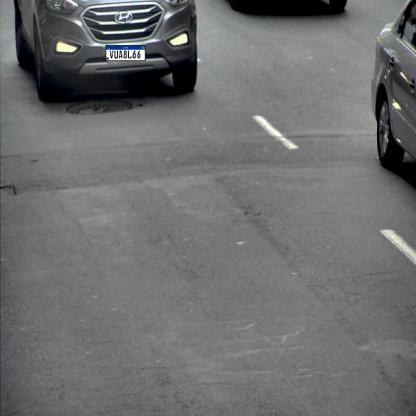PlacaM: (106, 45, 146, 61)
